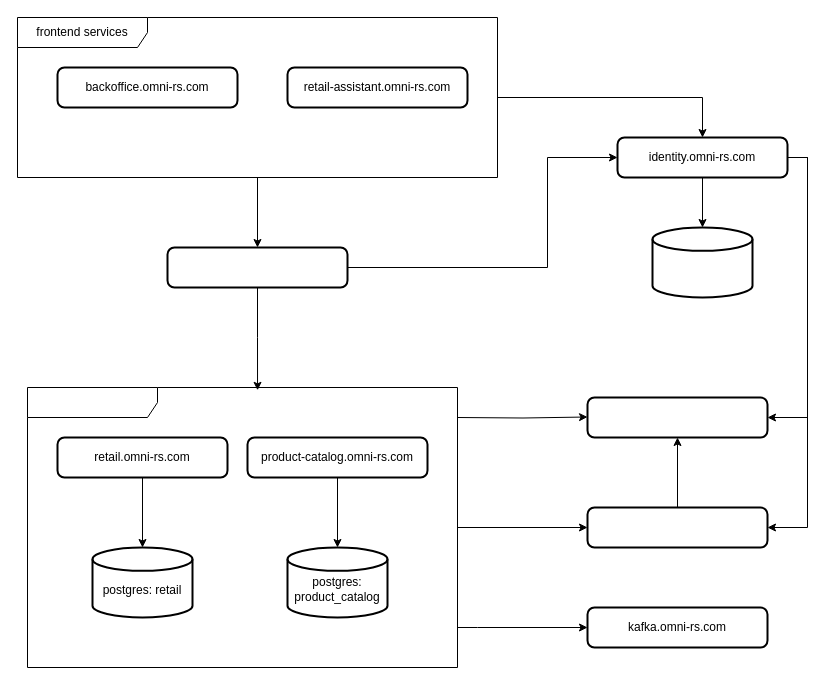
The diagram is 833 pixels wide and 685 high, and some of its shapes have lost their labels. Here are the shapes that lost their labels. From the top down, the centre of each, then its label:
At pixel 257 267: "ocelot.omni-rs.com".
At pixel 702 262: "postgres: identity".
At pixel 677 417: "consul.omni-rs.com".
At pixel 242 527: "backend services".
At pixel 677 527: "vault.omni-rs.com".
